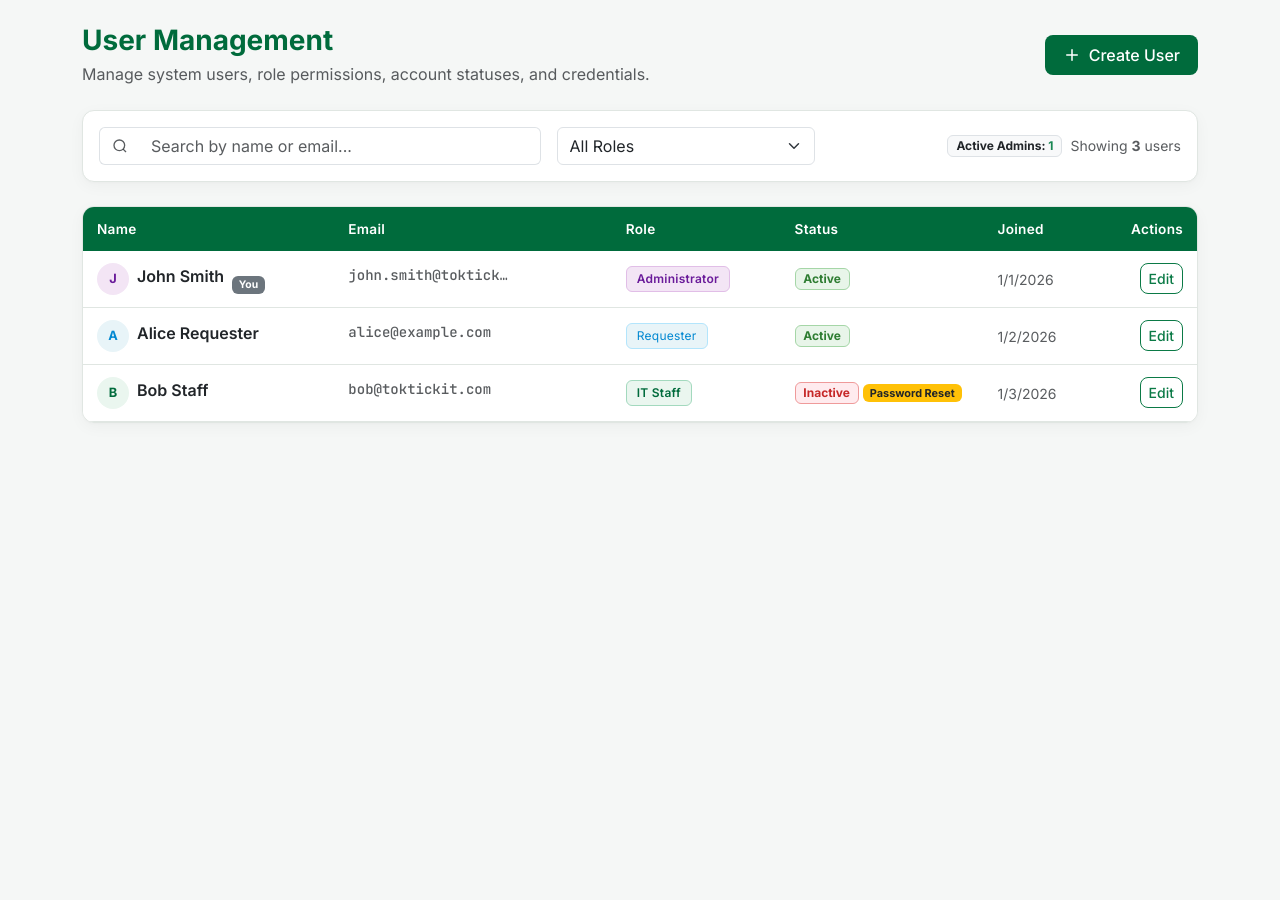
Test: UserManagement Component Tests (UI-06, AC-13..16, FR-17..20) › displays duplicate email error when creation fails with duplicate email (BR-20, API-21)
Click the button with test id "btn-create-user" at [1121, 55], box x1=1045 y1=35 x2=1198 y2=75
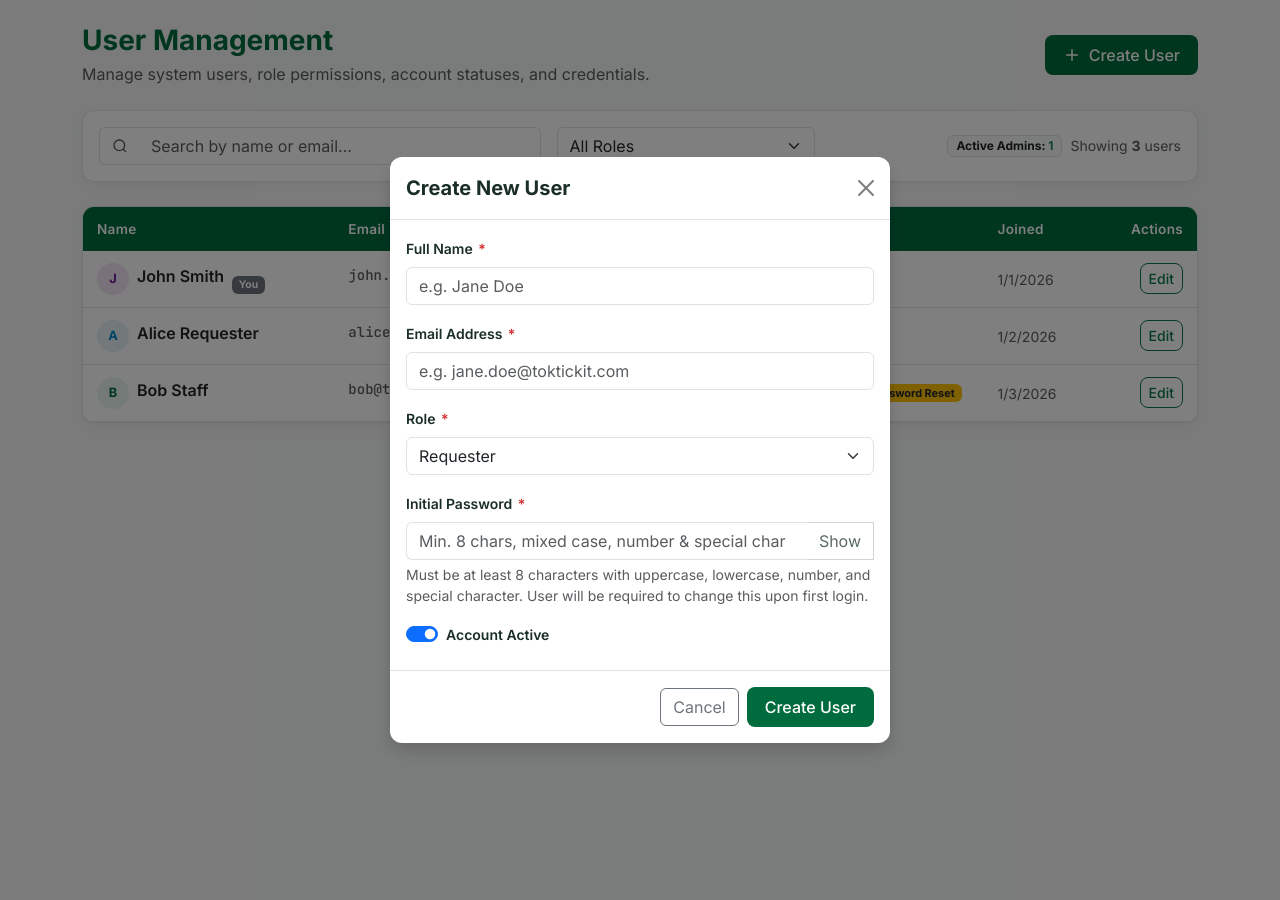
Type "Duplicate User" into the field with test id "create-name-input" at [640, 286], box x1=406 y1=267 x2=874 y2=305
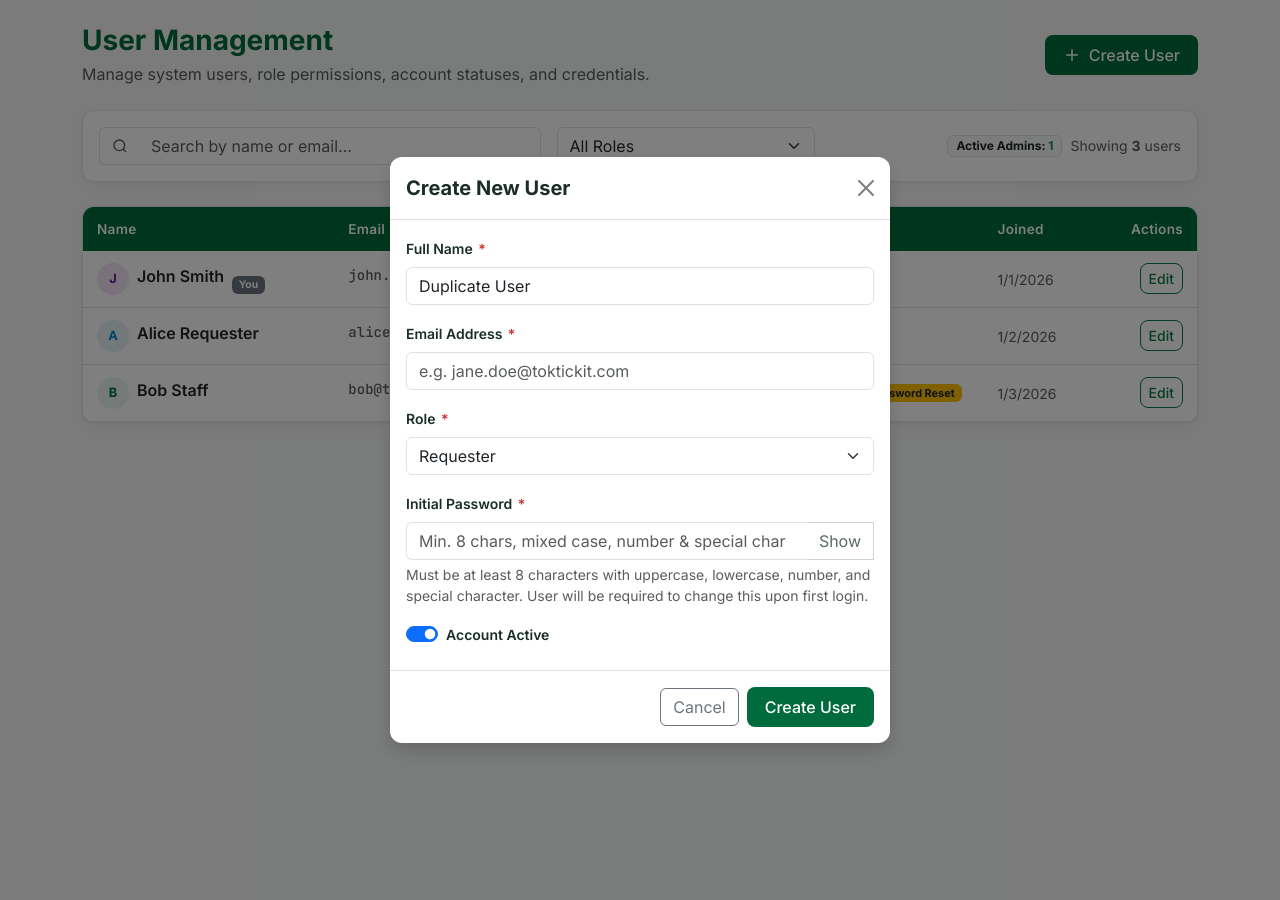
Type "john.smith@toktickit.com" into the field with test id "create-email-input" at [640, 371], box x1=406 y1=352 x2=874 y2=390
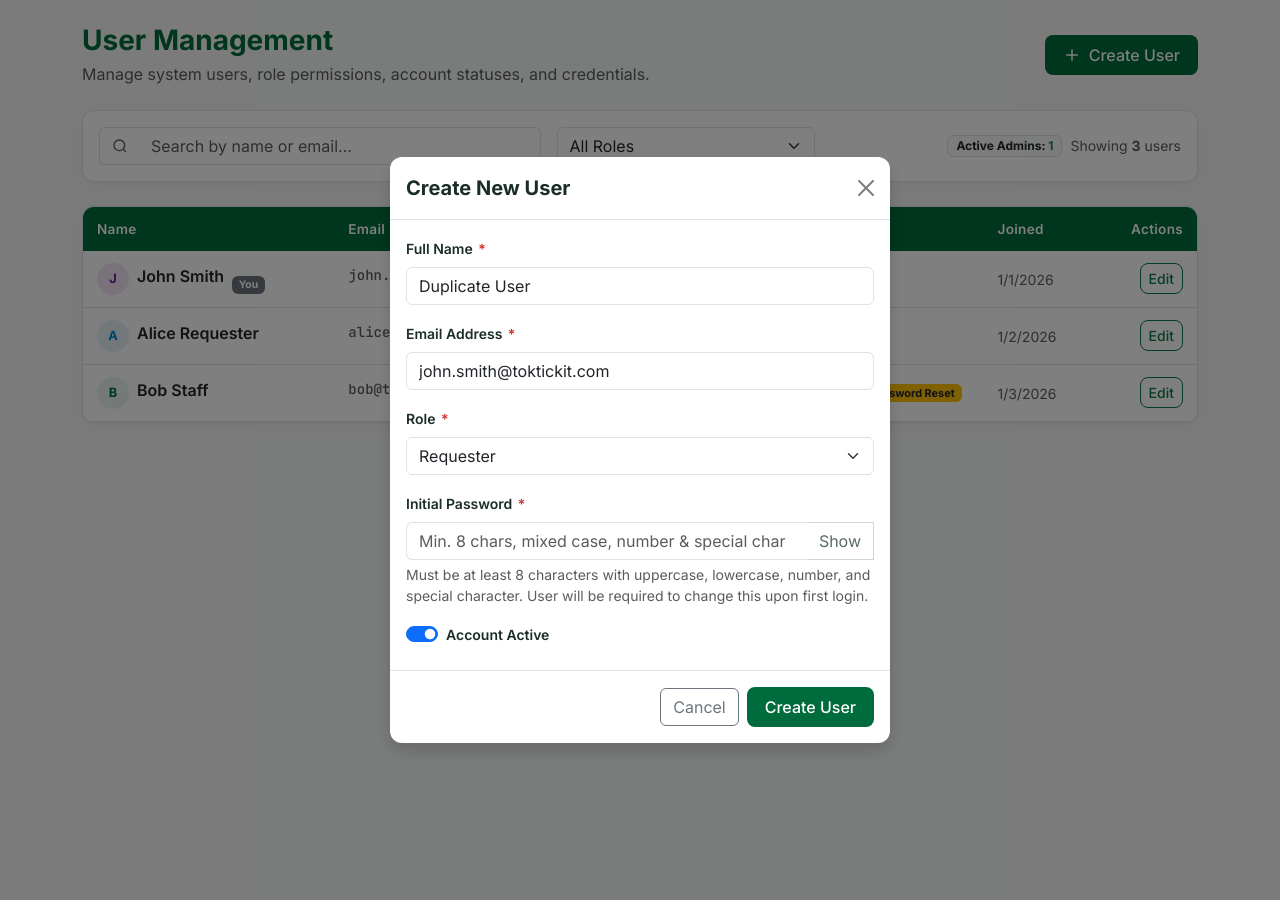
Type "Password123!" into the password field with test id "create-password-input" at [607, 541], box x1=406 y1=522 x2=808 y2=560
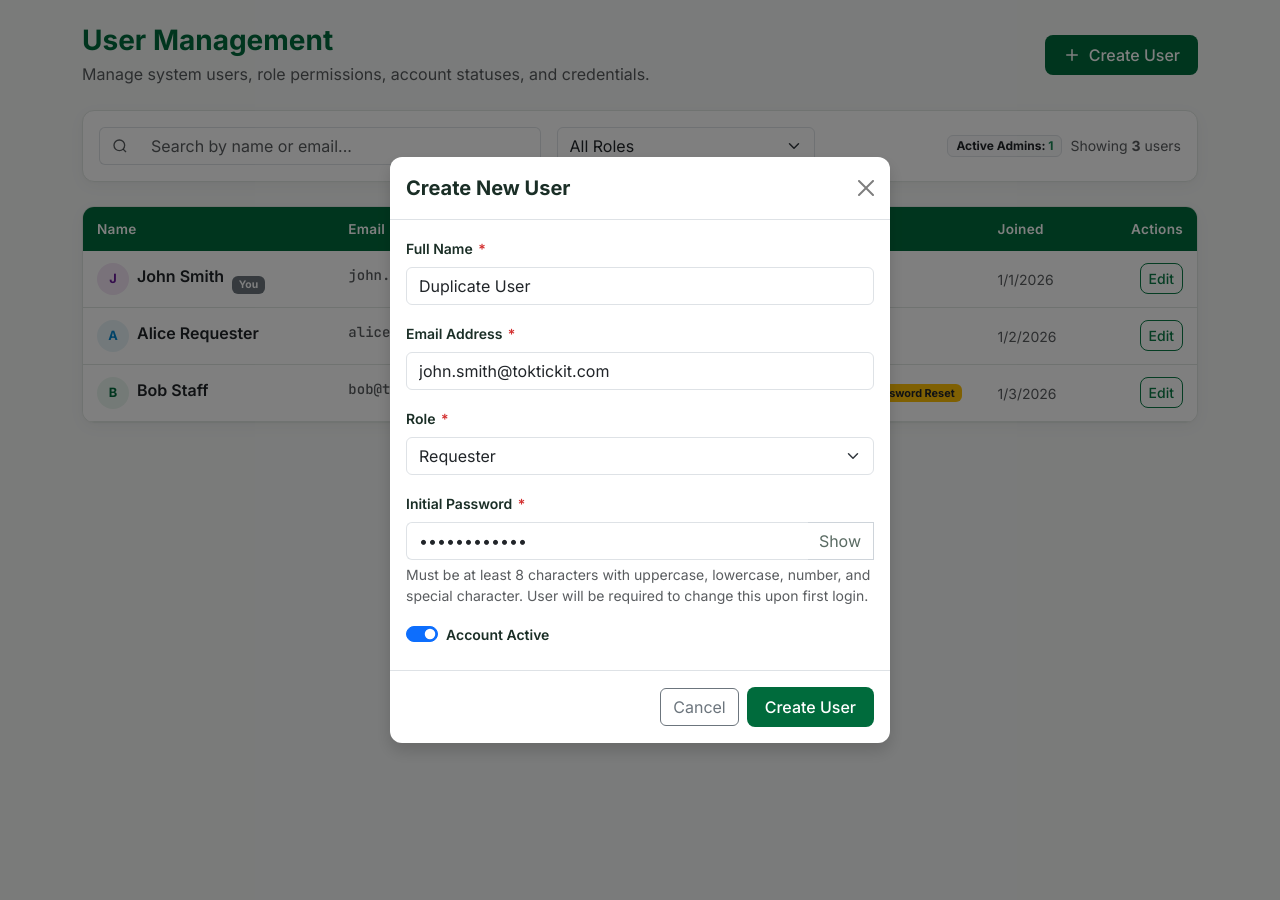
Click the button with test id "btn-submit-create-user" at [810, 707], box x1=747 y1=687 x2=874 y2=727
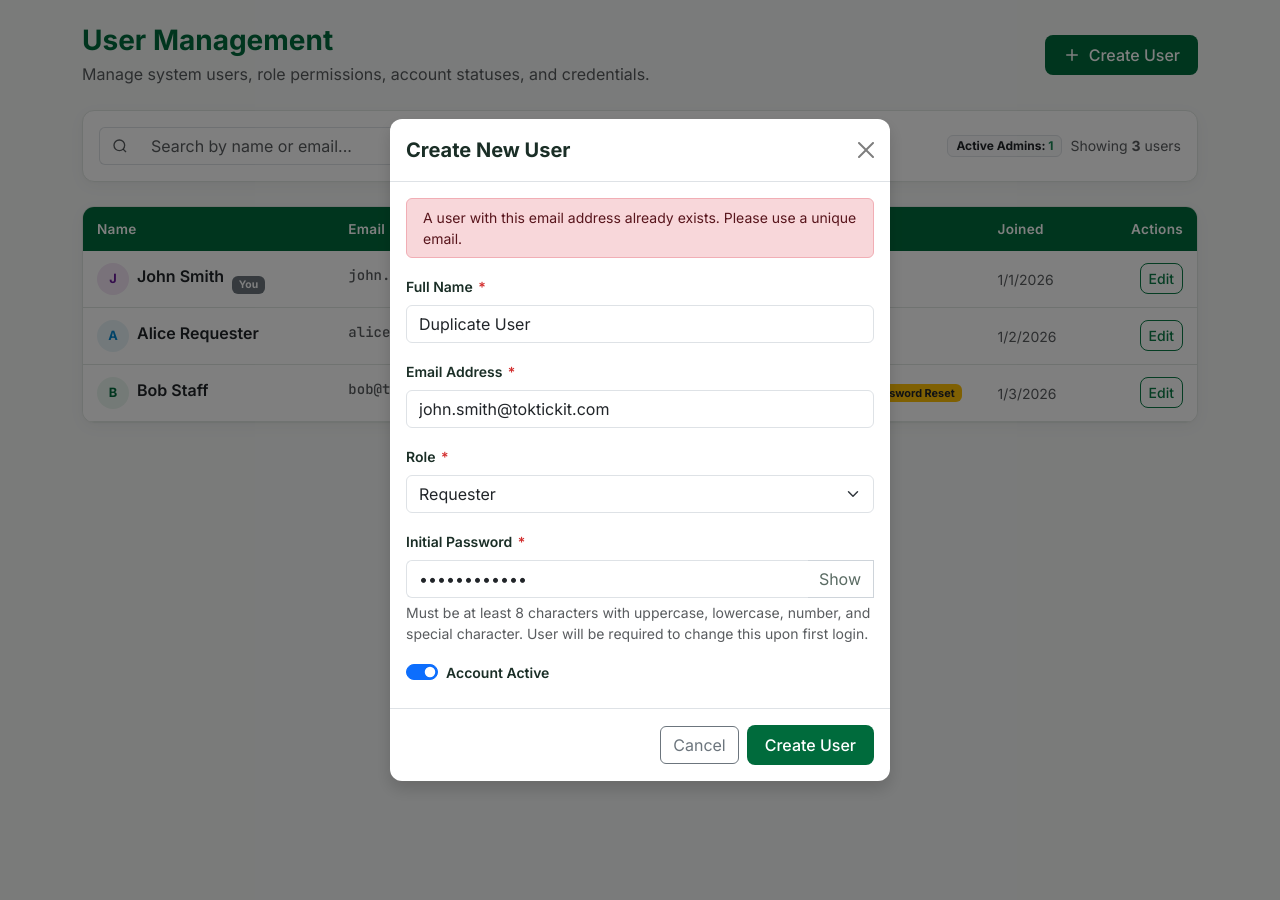
Result: the message with test id "create-error" shows "already exists. Please use a unique email" at x1=423 y1=209 x2=856 y2=247
